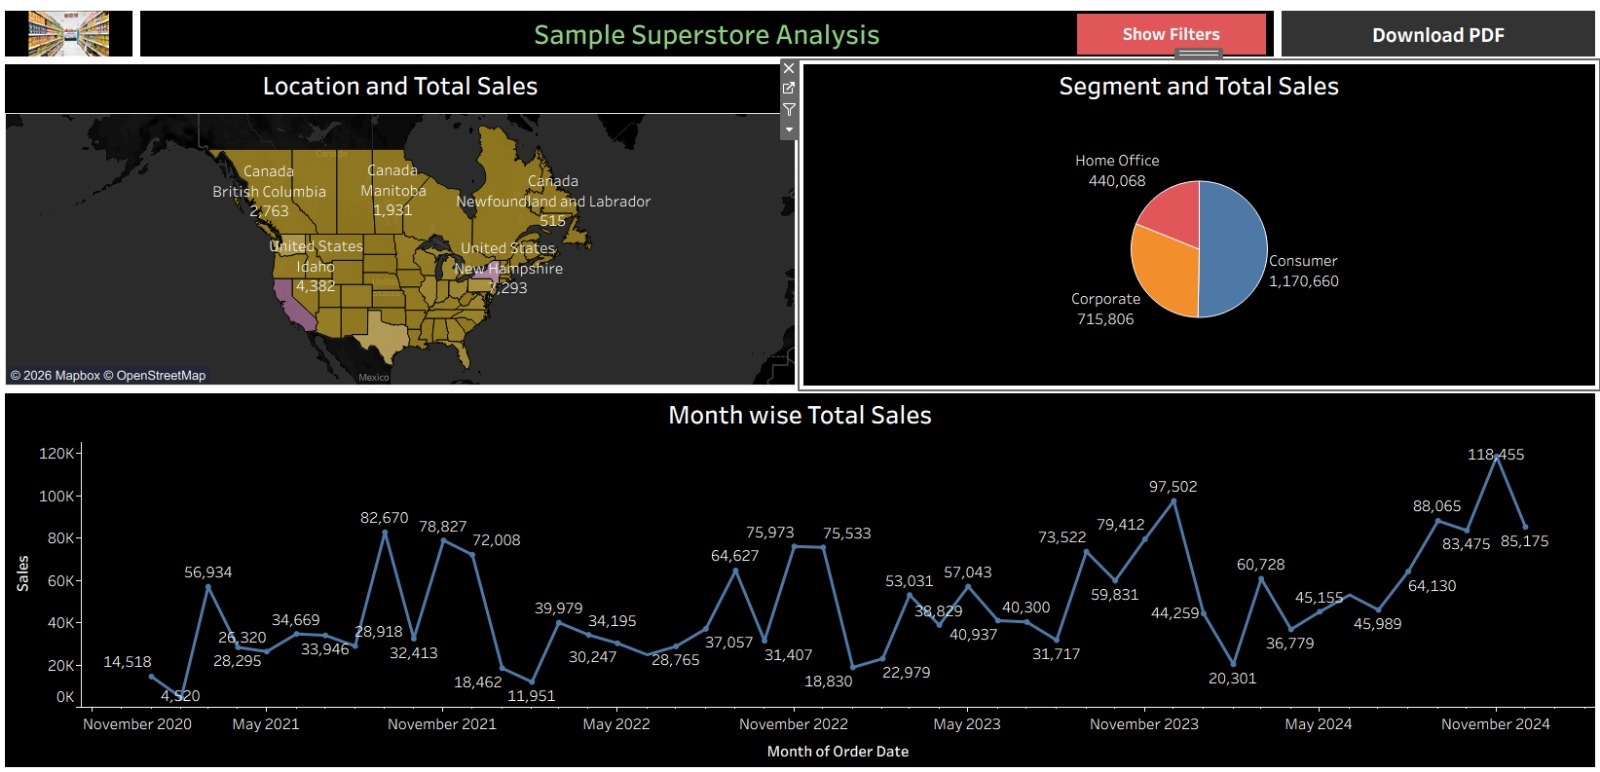

The dashboard page shown, as its layout file describes it:
{"tool":"tableau","page":{"name":"Dashboard 1","canvas":[1000,1000],"units":"permille","ordinal":0},"visuals":[{"type":"image","param":"Image/SS image.jpeg","box":[9,10.1,83.3,68.2]},{"type":"text","box":[92.3,10.1,701.2,68.2]},{"type":"dashboard-object","box":[793.6,10.1,197.4,68.2]},{"type":"filter","title":" Map Visual","param":"[federated.00ajwxh0tq8yjy12ewb2f1eqsnij].[none:State/Province:nk]","box":[810.6,10.1,180.4,77.1]},{"type":"dashboard-object","box":[671.7,18.7,117.1,52.4]},{"type":"worksheet","title":" Map Visual","mark":"Automatic","box":[9,78.3,490.9,421.7]},{"type":"worksheet","title":" Pie chart","mark":"Pie","box":[499.9,78.3,491.1,421.7]},{"type":"filter","title":" Pie chart","param":"[federated.00ajwxh0tq8yjy12ewb2f1eqsnij].[none:Segment:nk]","box":[810.6,87.2,180.4,77.1]},{"type":"filter","title":" Line chart","param":"[federated.00ajwxh0tq8yjy12ewb2f1eqsnij].[tmn:Order Date:qk]","box":[810.6,164.3,180.4,92.3]},{"type":"worksheet","title":" Line chart","mark":"Automatic","rows":["Sales"],"cols":["Order Date"],"box":[9,500,982,489.9]}]}

Visuals, with their boxes on the dashboard's canvas, which has no fixed pixel size, in thousandths of its width and height (x1, y1, x2, y2). These are canvas units, not pixel positions in the 1600x772 screenshot, which may show the page scaled, cropped or inside an application window:
image: bbox=[9, 10, 92, 78]
text: bbox=[92, 10, 794, 78]
dashboard-object: bbox=[794, 10, 991, 78]
" Map Visual" filter: bbox=[811, 10, 991, 87]
dashboard-object: bbox=[672, 19, 789, 71]
" Map Visual" worksheet: bbox=[9, 78, 500, 500]
" Pie chart" worksheet (Pie marks): bbox=[500, 78, 991, 500]
" Pie chart" filter: bbox=[811, 87, 991, 164]
" Line chart" filter: bbox=[811, 164, 991, 257]
" Line chart" worksheet: bbox=[9, 500, 991, 990]
